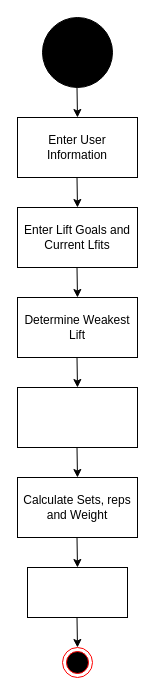
Image size: 155x695. Some labels were removed from this diagram. Here are the shapes that lost their labels. From the top down, the box of each, then its label:
(16, 386, 138, 448): Generate Workout
(26, 566, 128, 618): Display Workout Summary
